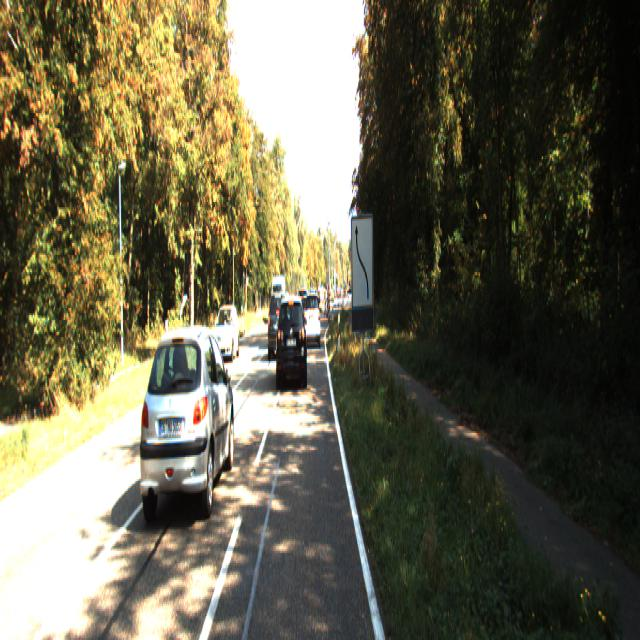Car: (140, 318, 235, 520), (276, 294, 307, 388), (267, 290, 291, 359), (211, 303, 239, 361), (305, 291, 321, 346)
